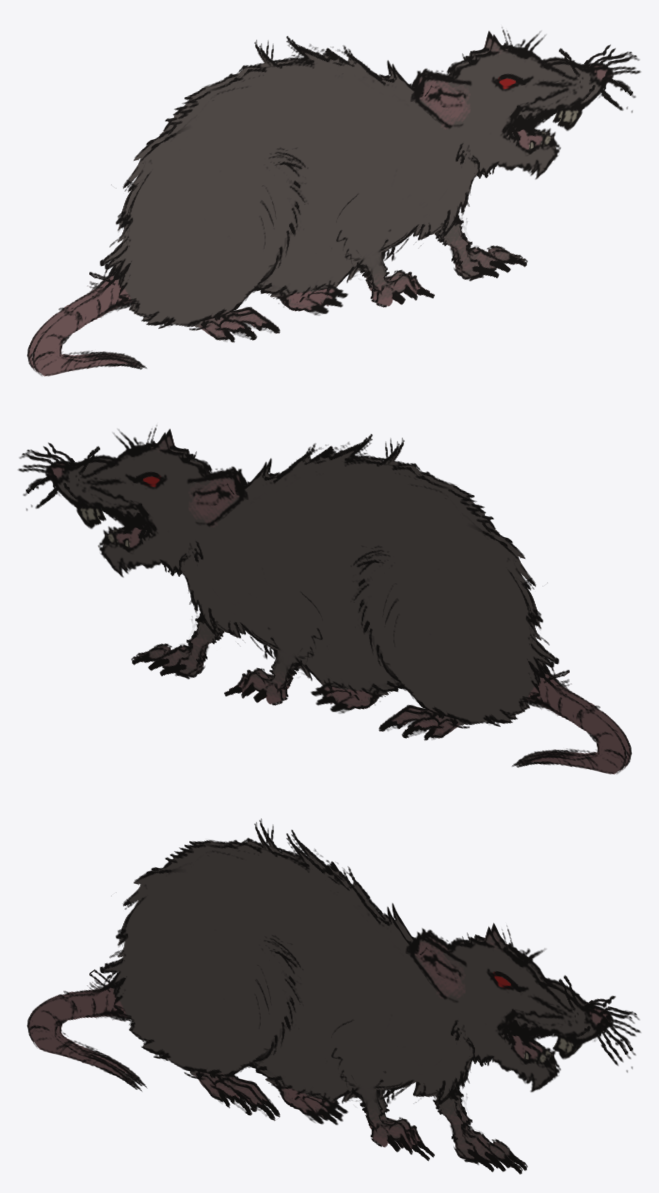
The model's file is SM_Rat.glb.
3 views of the same model, one above another, from view 1: azimuth 30°, elevation 25°; view 2: azimuth 150°, elevation 25°; view 3: azimuth 330°, elevation 25° (orthographic).
Parts seen in each view (by area): view 1: SM_Rat; view 2: SM_Rat; view 3: SM_Rat.
Part boxes in pixels (x1,y1,x2,y2): SM_Rat: (27,27,640,376); SM_Rat: (18,425,631,774); SM_Rat: (27,818,640,1174).
Size of the model in its own units: 1.85 by 0.9029 by 0.025.
1 material, 1 textured.
